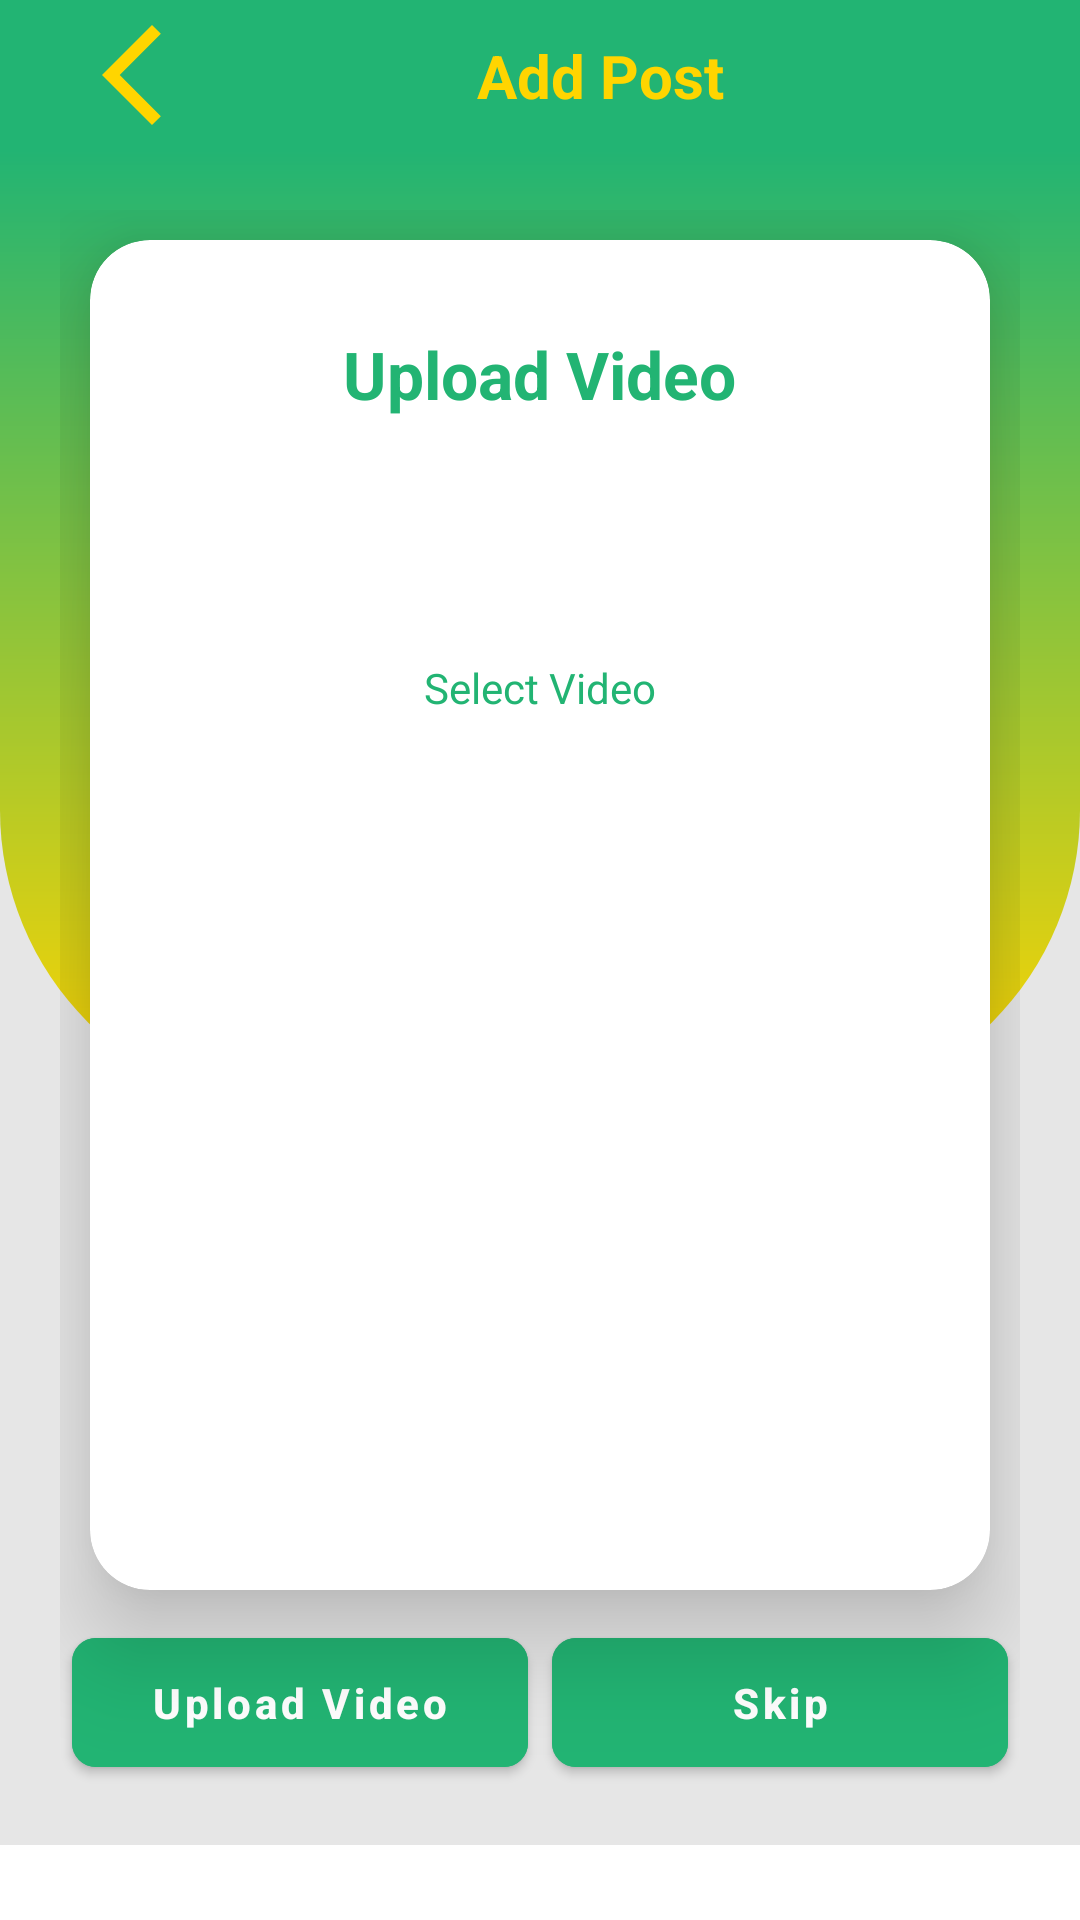

Icon bounding boxes for this 1080 × 1920 phone screenshot, format (x1, y1, x2, y2):
back: (102, 25, 161, 125)
